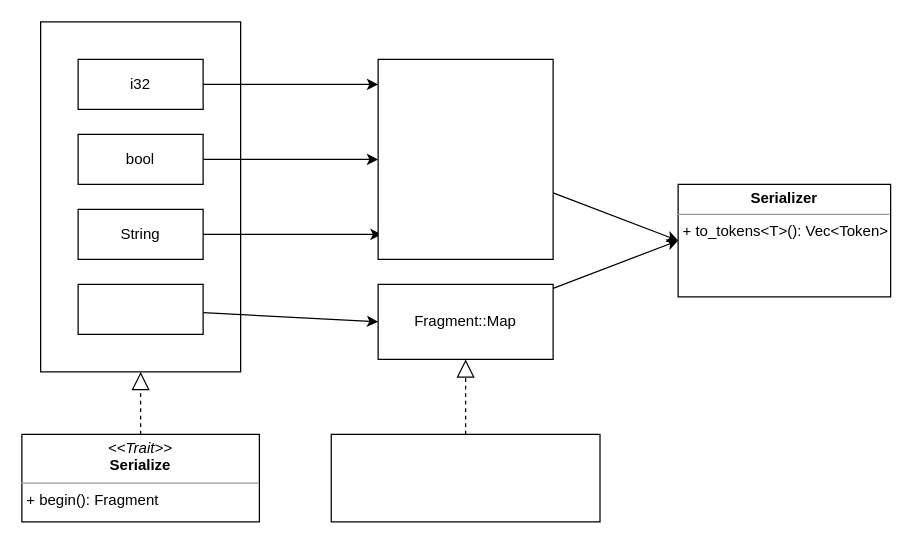
This 913x544 diagram has some shape labels left out. The shapes that lost their labels are listed below. From the top down, each one's centre as x and y in pixels, then its label:
pixel 465 158: Fragment::...
pixel 140 308: Struct { ... }
pixel 465 477: <<Trait>> Map + next(): Option<(String, Serialize)>
